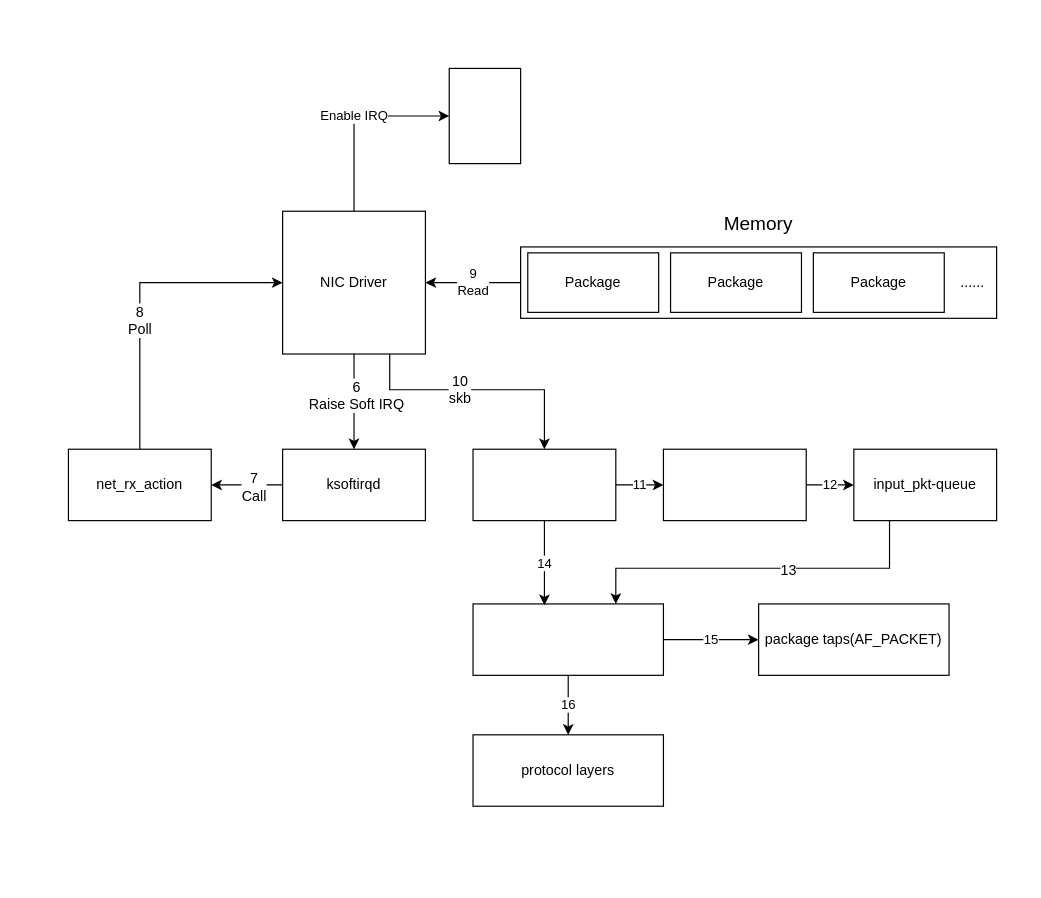
Image size: 1041x898. Some labels were removed from this diagram. Each missing label, with the box of its shape:
__netif_receive_skb_core: (472, 603, 663, 675)
enqueue_to_backlog: (662, 448, 806, 521)
napi_gro_receive: (472, 448, 616, 521)
NIC: (448, 67, 521, 164)
